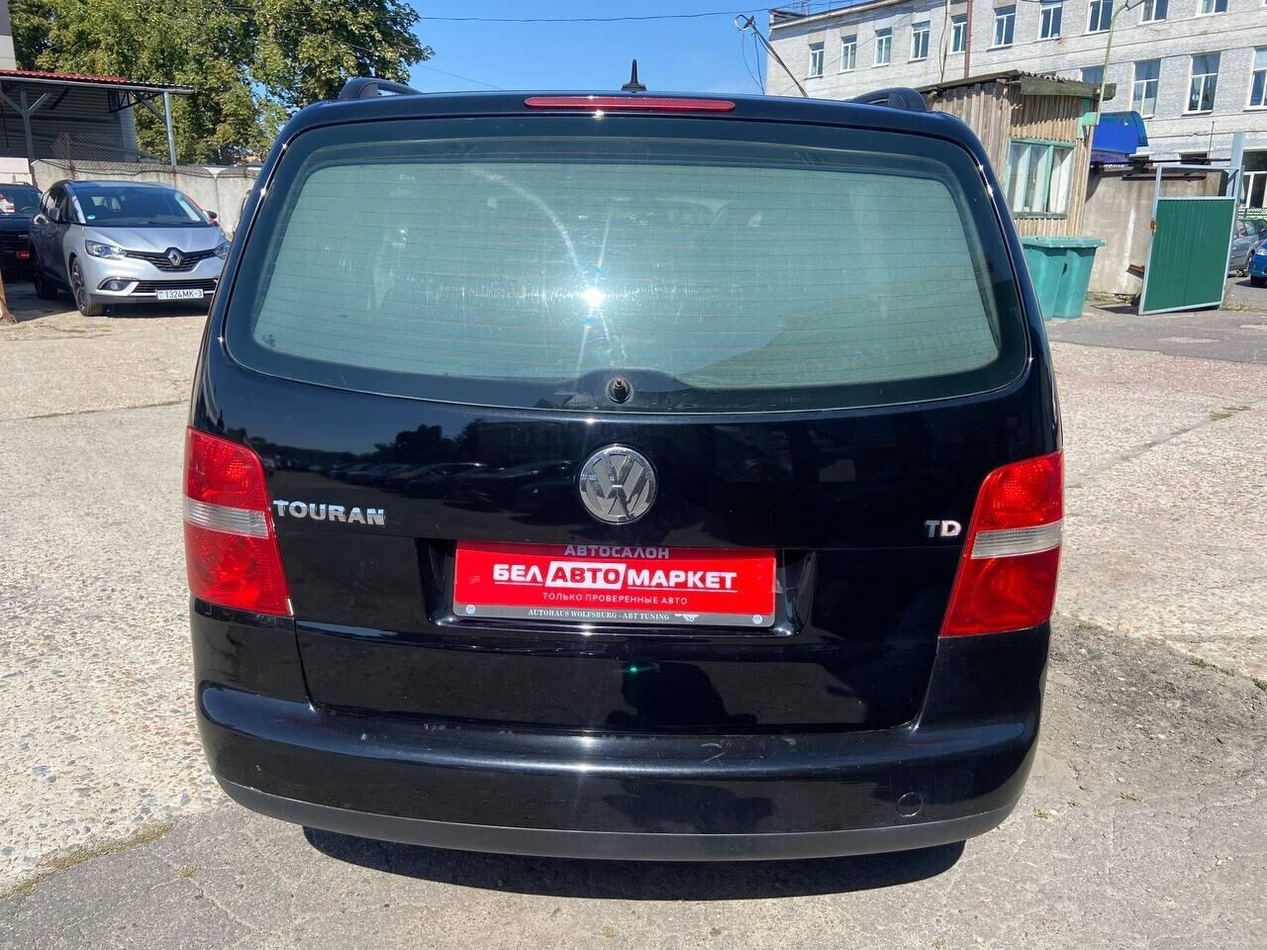Touran_2003-2006: (178, 89, 1069, 884)
